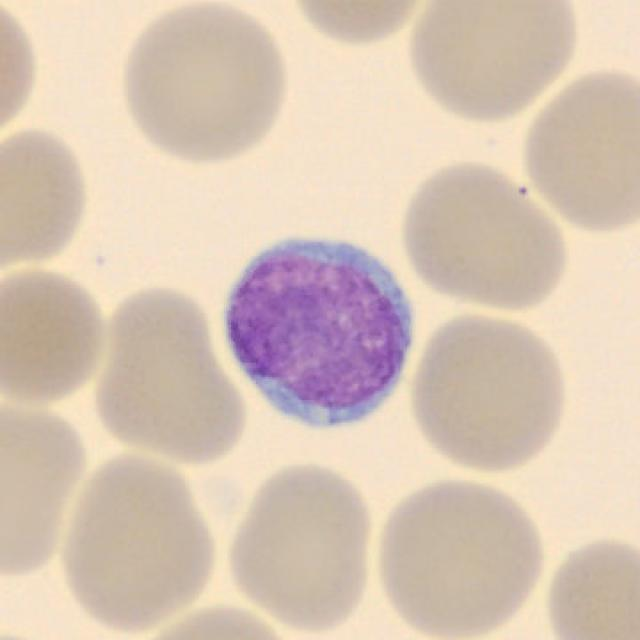Linfocito atipico: (224, 240, 412, 428)
